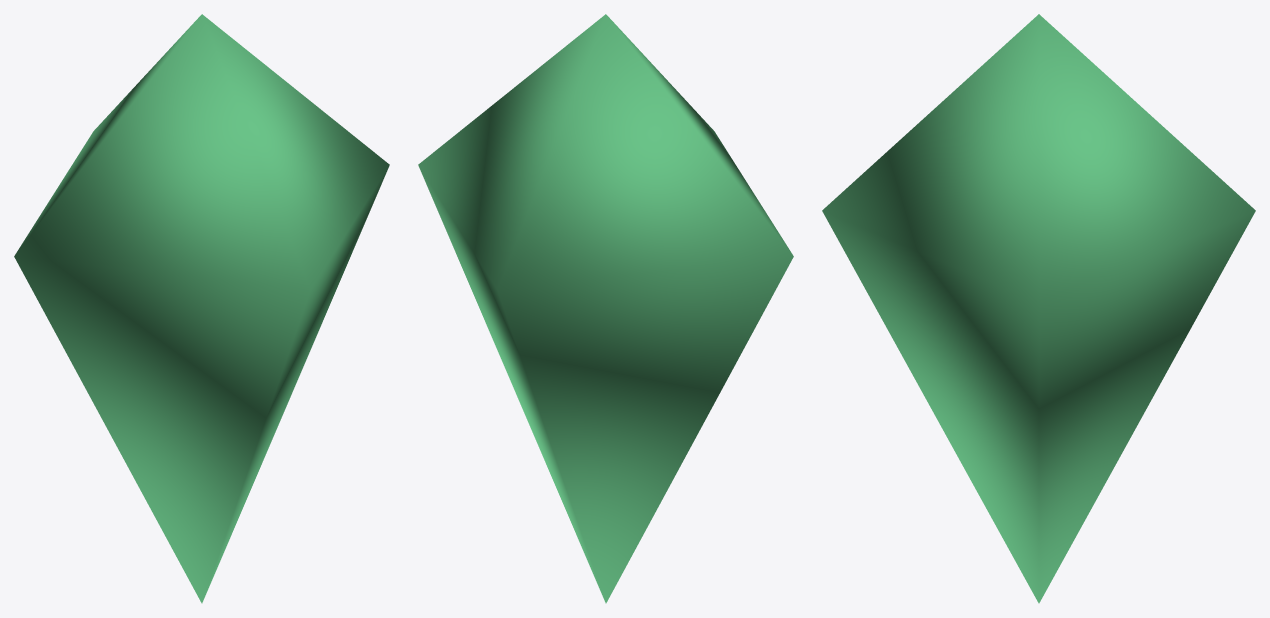
File: Tree.gltf
3 views of the same model, side by side, from view 1: azimuth 30°, elevation 25°; view 2: azimuth 150°, elevation 25°; view 3: azimuth 270°, elevation 25° (orthographic).
Parts seen in each view (by area): view 1: TreeCanopy; view 2: TreeCanopy; view 3: TreeCanopy.
Boxes of the visible parts, x1,y1,x2,y2 form: TreeCanopy: (14, 14, 389, 603); TreeCanopy: (418, 14, 793, 603); TreeCanopy: (822, 14, 1255, 603).
Bounding box in the file's own units: 1.8 × 2.7 × 1.8.
